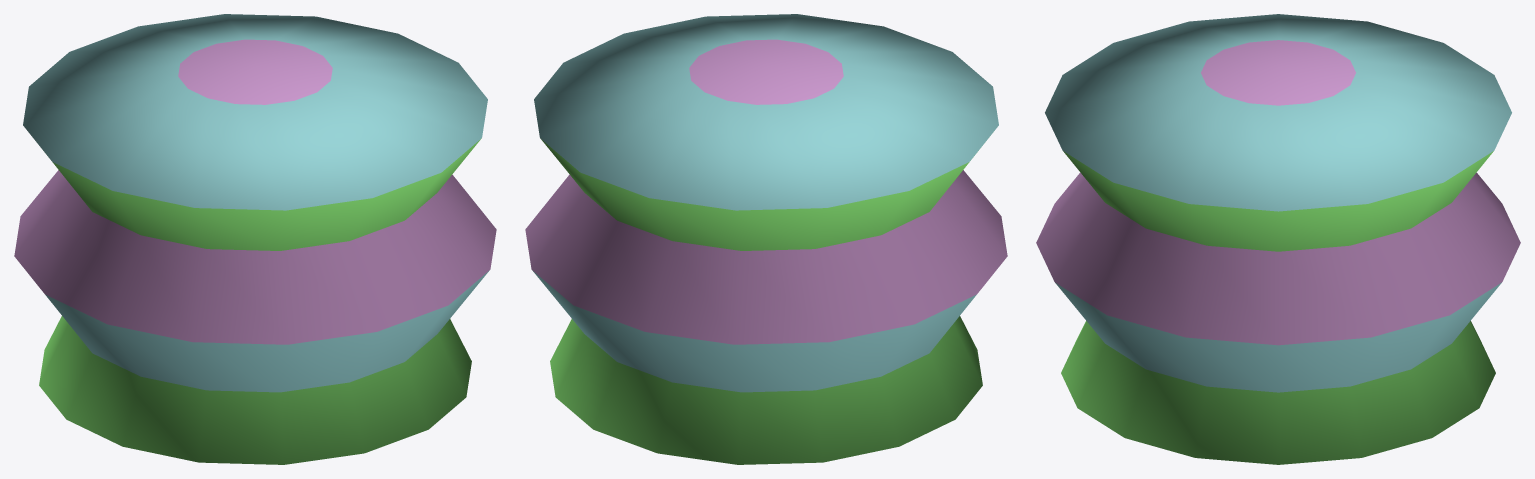
The model's file is pinata.fbx.
The picture shows the model from 3 angles, left to right: view 1: azimuth 30°, elevation 25°; view 2: azimuth 150°, elevation 25°; view 3: azimuth 270°, elevation 25°; orthographic projection.
Parts seen in each view (by area): view 1: Sphere; view 2: Sphere; view 3: Sphere.
Boxes of the visible parts, x1,y1,x2,y2 form: Sphere: (14,14,496,464); Sphere: (525,14,1007,464); Sphere: (1036,14,1520,464).
Bounding box in the file's own units: 239 × 191 × 239.
